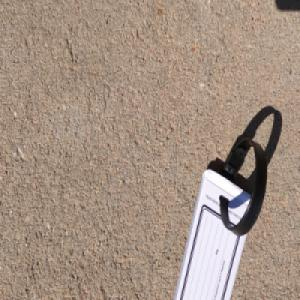LuggageTag: (169, 135, 265, 300)
